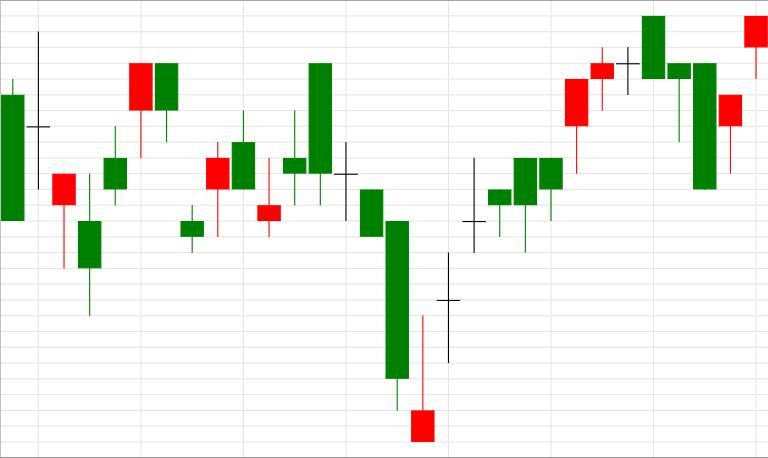hammer_rise: (616, 16, 742, 189)
inverse_hammer_rise: (284, 63, 434, 442)
